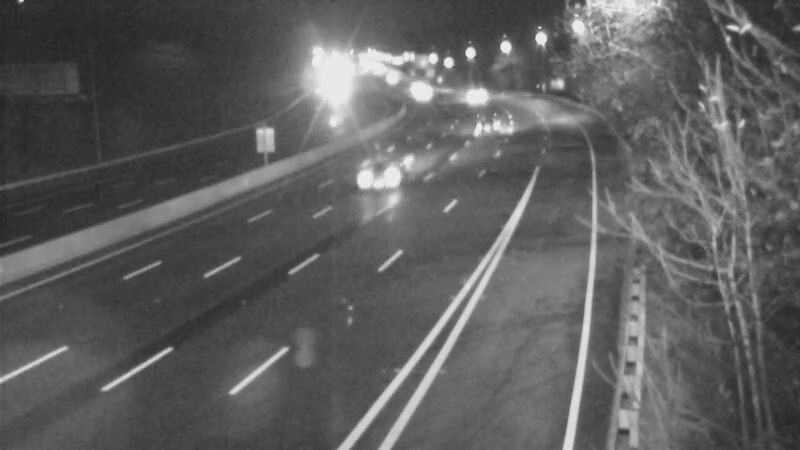vehicle: (339, 133, 419, 213), (392, 61, 442, 111), (398, 68, 448, 118), (448, 74, 498, 124), (469, 100, 519, 150)
